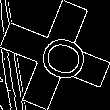O_W: (24, 25, 86, 85)
